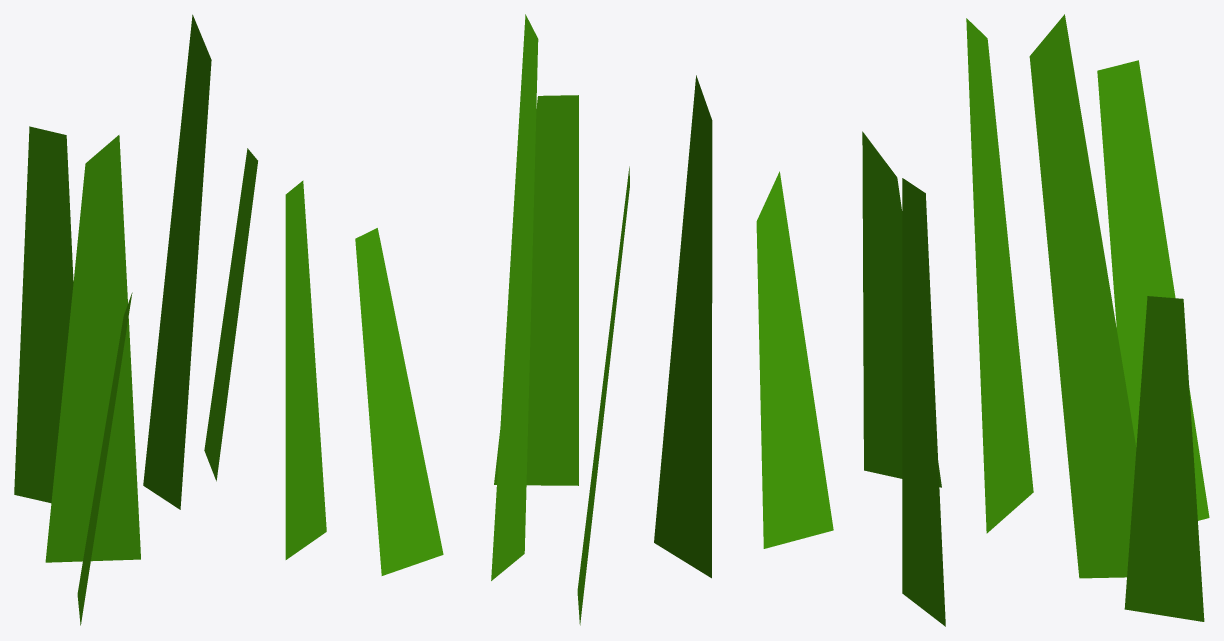
The model's file is T_Grass1Fresh.fbx.
3 renders of one model, left to right at view 1: azimuth 30°, elevation 25°; view 2: azimuth 150°, elevation 25°; view 3: azimuth 270°, elevation 25°, orthographic. The views are drawn at different scales.
Parts seen in each view (by area): view 1: Plane; view 2: Plane; view 3: Plane.
Part boxes in pixels (x1,y1,x2,y2): Plane: [14, 14, 326, 625]; Plane: [355, 14, 833, 625]; Plane: [862, 14, 1209, 626].
Size of the model in its own units: 0.1851 by 0.2873 by 0.1593.
